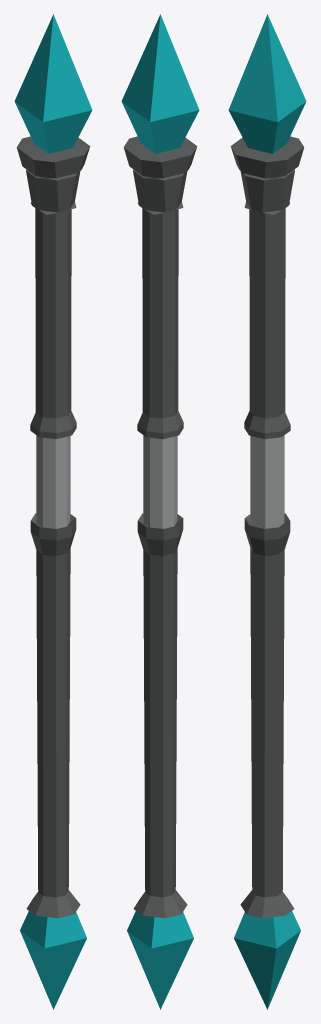
Rendered from CrystalStaff.glb.
The picture shows the model from 3 angles, left to right: view 1: azimuth 30°, elevation 25°; view 2: azimuth 210°, elevation 25°; view 3: azimuth 330°, elevation 25°; orthographic projection.
Parts seen in each view (by area): view 1: Cube; view 2: Cube; view 3: Cube.
Part boxes in pixels (x1,y1,x2,y2): Cube: (14, 14, 92, 1009); Cube: (121, 14, 199, 1009); Cube: (228, 14, 306, 1009).
Size of the model in its own units: 0.1023 by 1.73 by 0.1023.
